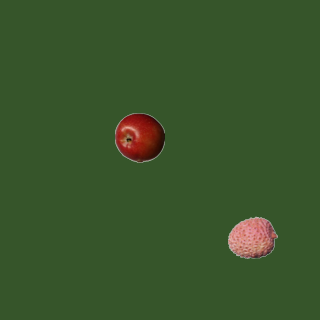Apple Braeburn: (114, 112, 164, 162)
Lychee: (227, 212, 277, 262)
